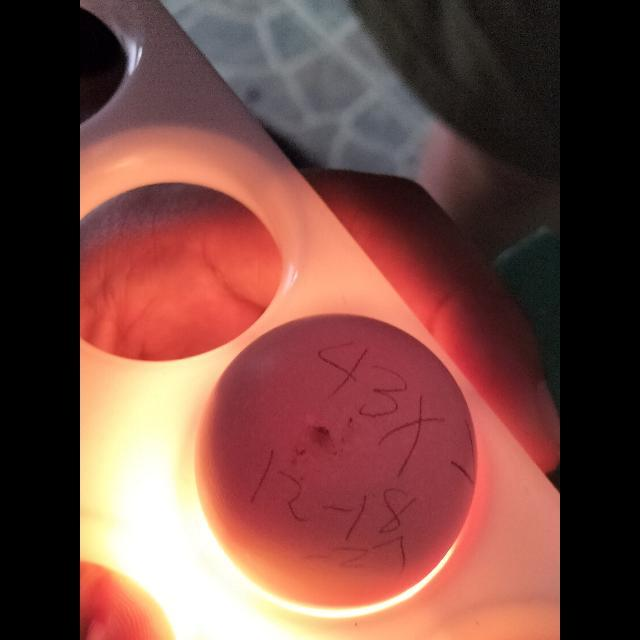Fertile: (192, 311, 480, 609)
